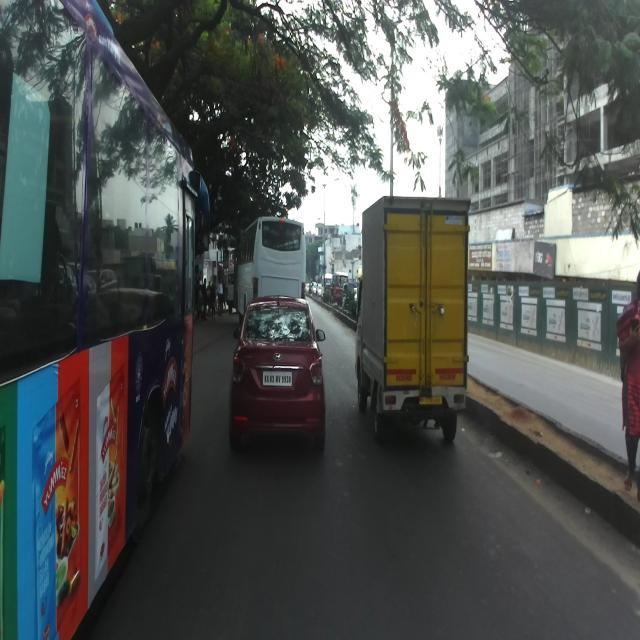Car_Hyundai: (228, 295, 326, 457)
bus: (0, 0, 208, 639), (233, 216, 306, 323), (225, 265, 236, 313)
truck: (351, 190, 469, 452)
